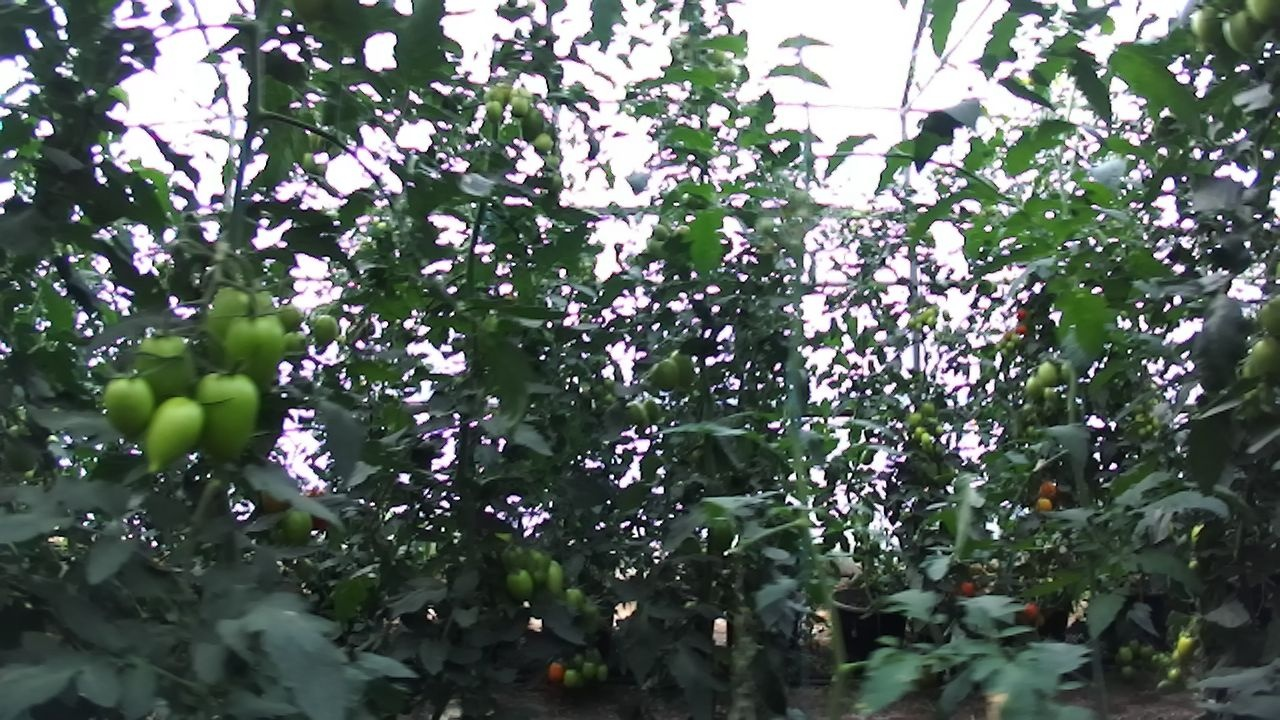tomato: (183, 362, 272, 477), (205, 304, 303, 405), (133, 382, 218, 485), (120, 322, 215, 411), (196, 279, 281, 368), (90, 369, 167, 445), (1209, 5, 1275, 63), (1180, 1, 1233, 50), (273, 501, 323, 550), (1238, 332, 1280, 389), (267, 297, 312, 342), (663, 344, 700, 393), (305, 310, 348, 351), (644, 353, 685, 395), (274, 325, 313, 367), (501, 563, 540, 605), (518, 104, 549, 149), (540, 555, 569, 599), (619, 397, 653, 432), (559, 583, 590, 619), (1034, 358, 1067, 391), (1033, 477, 1065, 509), (638, 394, 666, 427), (644, 218, 677, 245), (1019, 372, 1047, 403), (955, 576, 985, 604), (1016, 595, 1046, 623), (1172, 631, 1200, 661), (544, 657, 571, 688), (529, 129, 557, 158), (478, 83, 508, 110), (507, 94, 535, 122), (1031, 492, 1057, 520), (577, 656, 601, 684), (558, 665, 581, 692), (483, 97, 505, 125), (1115, 641, 1137, 669), (539, 149, 563, 174), (1117, 661, 1140, 687), (591, 660, 613, 685), (1164, 663, 1186, 686), (918, 398, 938, 420), (910, 422, 929, 443), (917, 429, 935, 448)
